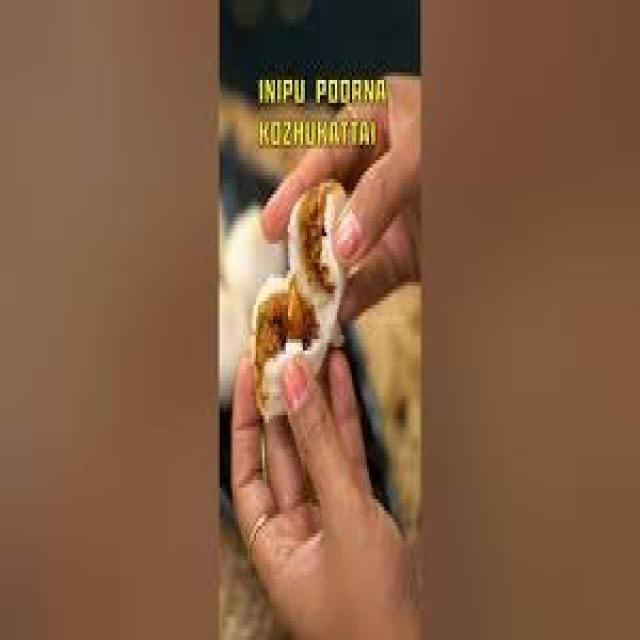poorna kolukattai: (243, 179, 387, 405)
